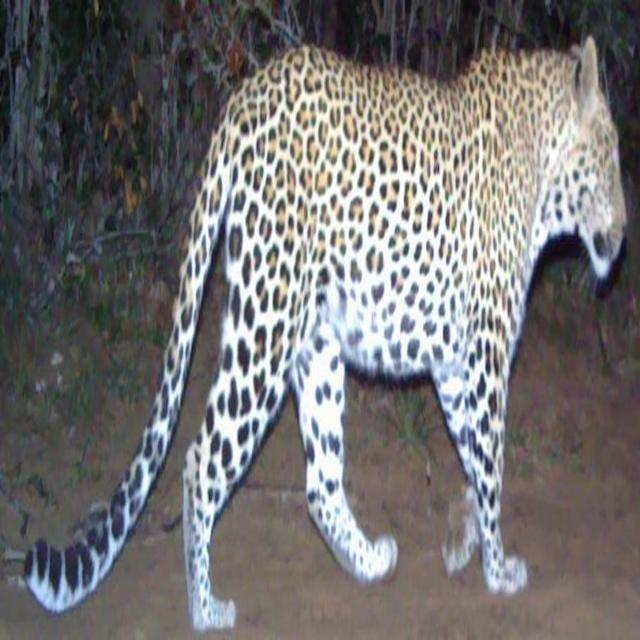Leopard: (29, 25, 626, 634)
